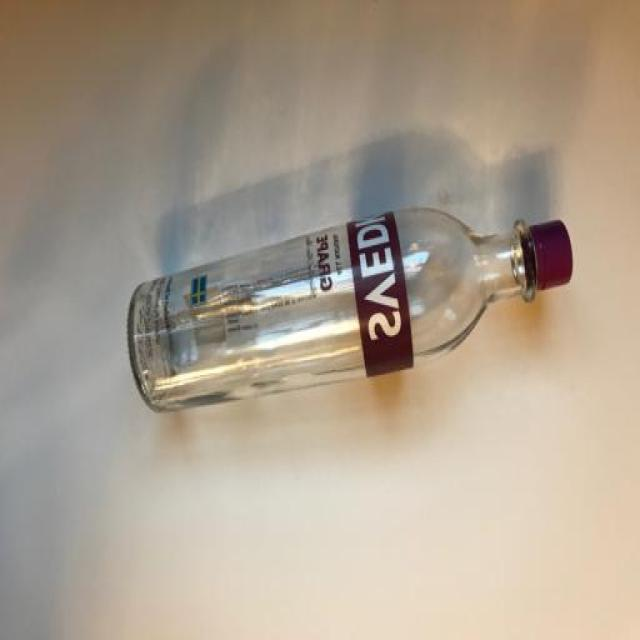glass: (127, 200, 572, 418)
